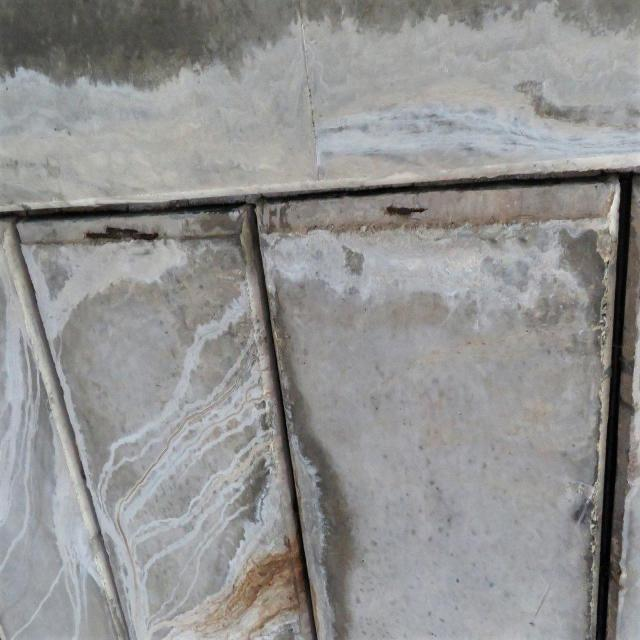Rebar: (83, 223, 161, 246), (383, 202, 427, 220)
